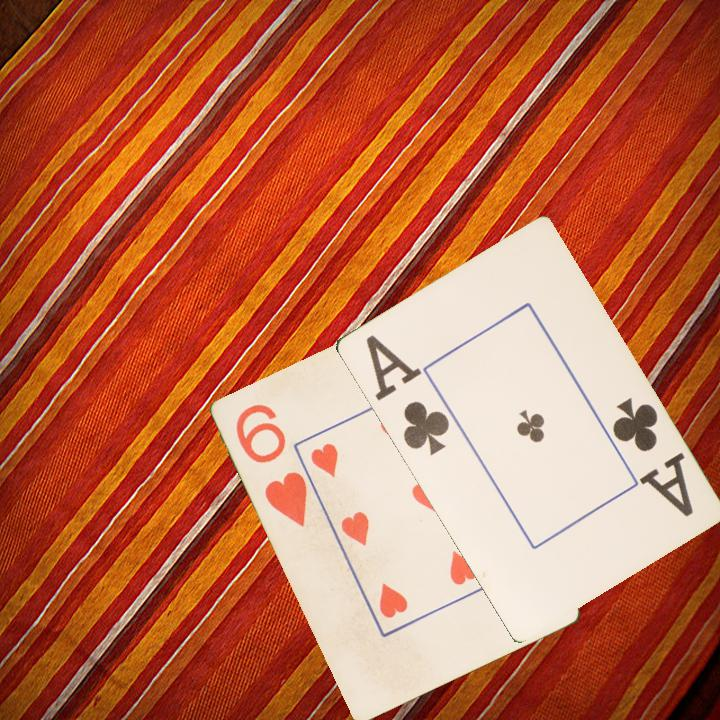6h: (232, 400, 314, 530)
Ac: (361, 330, 452, 459), (608, 393, 696, 520)
